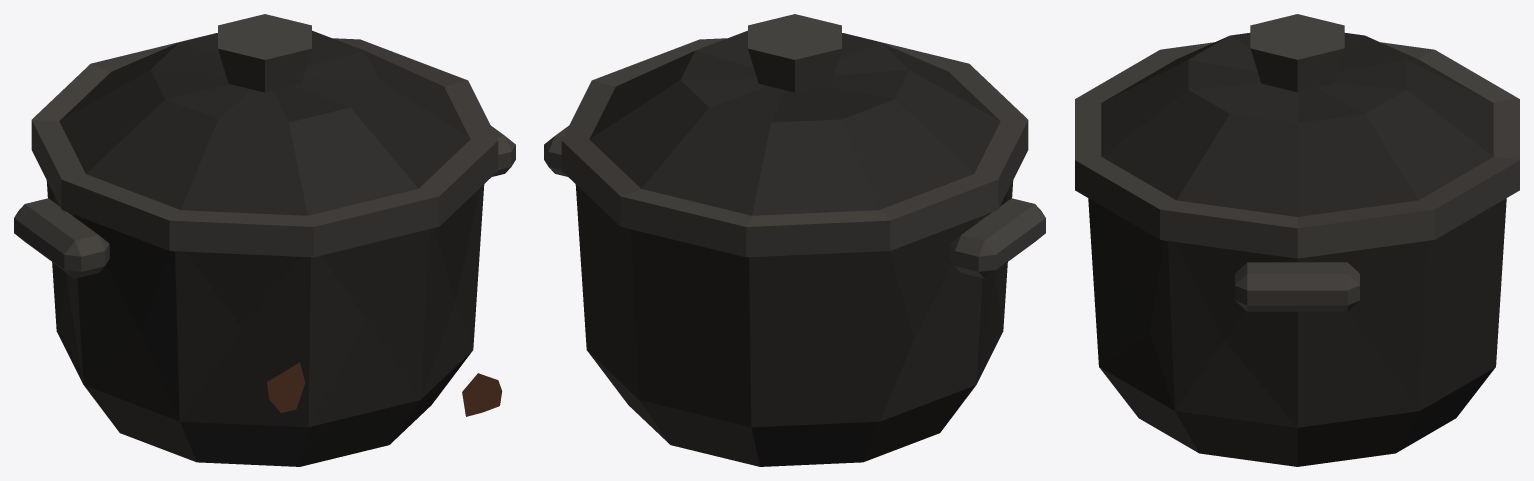
Rendered from cooking_pot_chugunnyy_idle.glb.
3 renders of one model, left to right at view 1: azimuth 30°, elevation 25°; view 2: azimuth 150°, elevation 25°; view 3: azimuth 270°, elevation 25°, orthographic.
Visible parts, largest first — view 1: cooking_pot_chugunnyy_idle; view 2: cooking_pot_chugunnyy_idle; view 3: cooking_pot_chugunnyy_idle.
Boxes of the visible parts, x1,y1,x2,y2 form: cooking_pot_chugunnyy_idle: (14, 14, 515, 466); cooking_pot_chugunnyy_idle: (544, 14, 1045, 466); cooking_pot_chugunnyy_idle: (1075, 14, 1519, 466).
Size of the model in its own units: 0.249 by 0.19 by 0.2135.
Materials: 1 (1 with a texture image).
